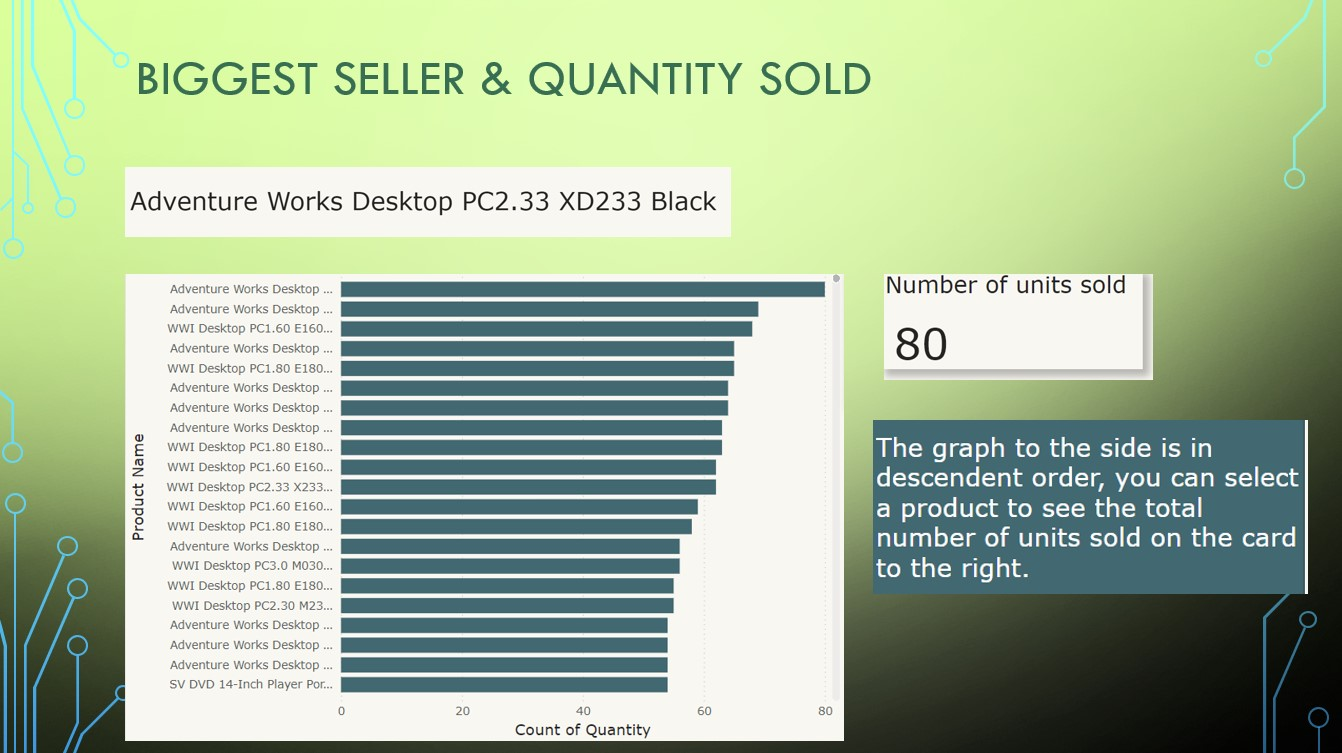

Layout of this report page (visuals, bound fields, positions):
{"tool":"powerbi","page":{"name":"Product most sold","canvas":[1280,720],"ordinal":1},"visuals":[{"type":"cardVisual","title":"Current Selection","fields":{"Data":["Min(Products.Product Name)"]},"box":[0,0,1279.3,202.8],"z":0},{"type":"barChart","fields":{"Category":["Products.Product Name"],"Y":["CountNonNull(Sales.Quantity)"]},"box":[0,214.2,755.1,505.8],"z":1000},{"type":"cardVisual","title":"Number of units sold","fields":{"Data":["Customers.Count of Quantity x Count of Unit Price USD"]},"box":[755.1,222.9,363.3,137.5],"z":2000},{"type":"shape","box":[773.6,382,362.6,317.9],"z":3000},{"type":"textbox","box":[773.6,392.5,362.6,296.8],"z":4000}]}

Visuals, with their boxes in screenshot pixels (x1, y1, x2, y2), scaled from the page's 1280x720 canvas onto the 1342x753 screenshot:
"Current Selection" cardVisual: (0,0,1341,212)
barChart - Products.Product Name x CountNonNull(Sales.Quantity): (0,224,792,752)
"Number of units sold" cardVisual: (792,233,1173,377)
shape: (811,400,1191,732)
textbox: (811,410,1191,721)
